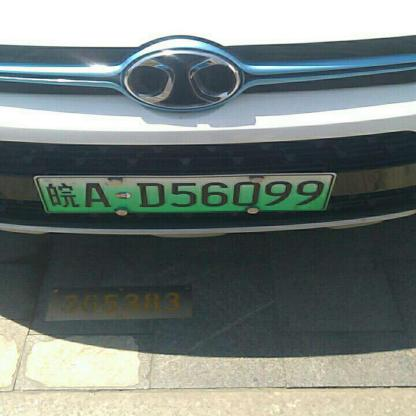lp: (46, 174, 324, 213)
